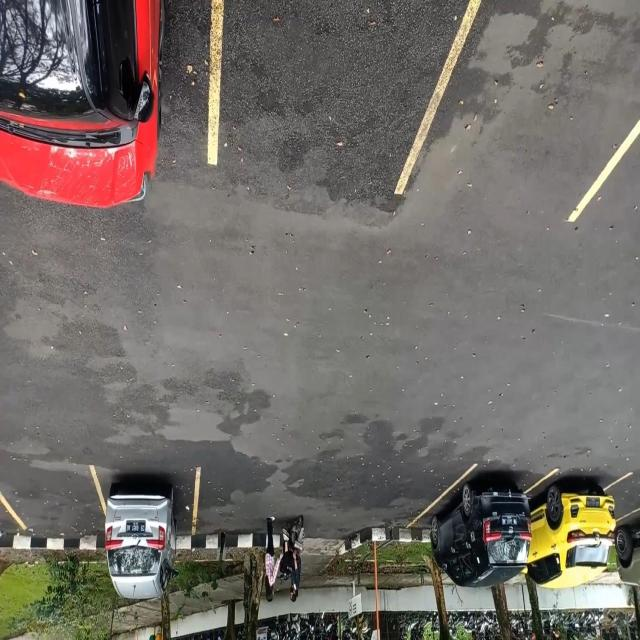empty: (439, 0, 638, 209), (210, 8, 430, 187), (0, 466, 99, 562)
occupied: (100, 469, 200, 572), (430, 465, 535, 558), (533, 468, 617, 572)
